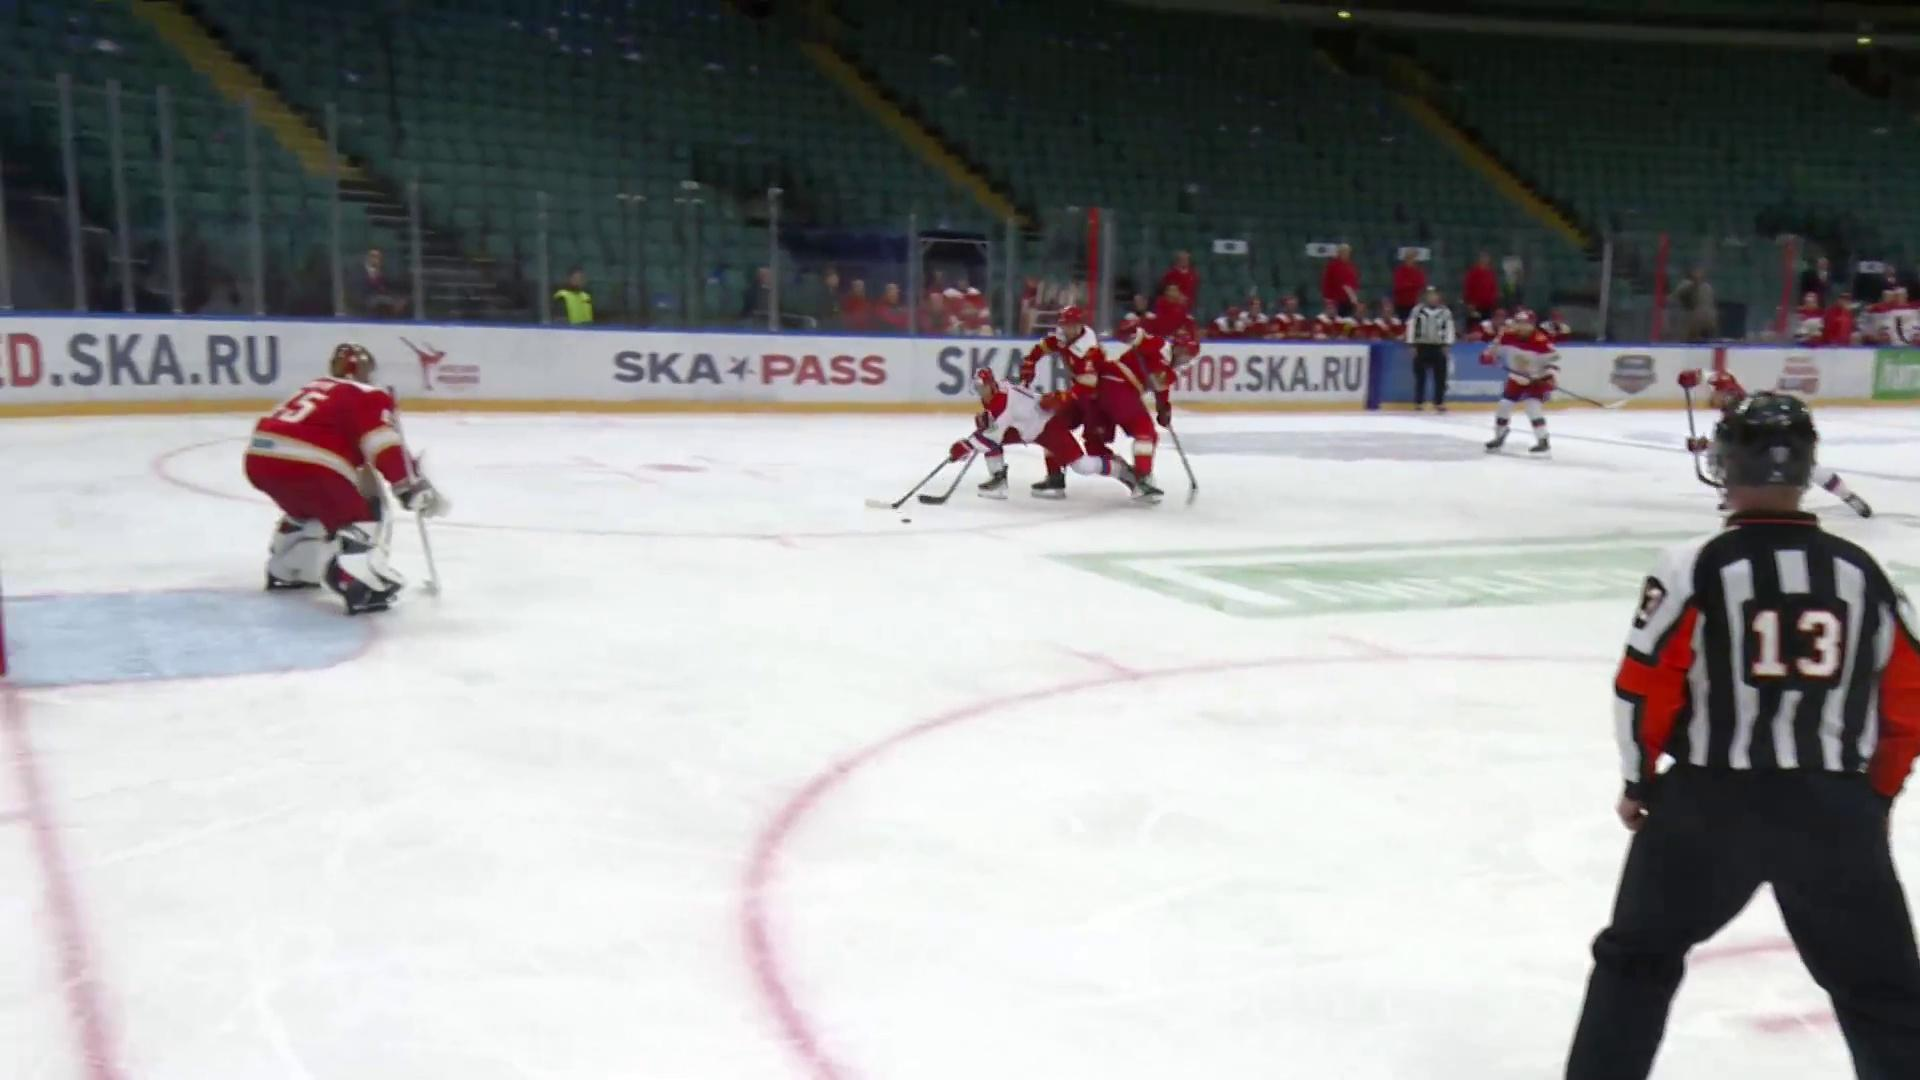ball: (898, 517, 915, 525)
